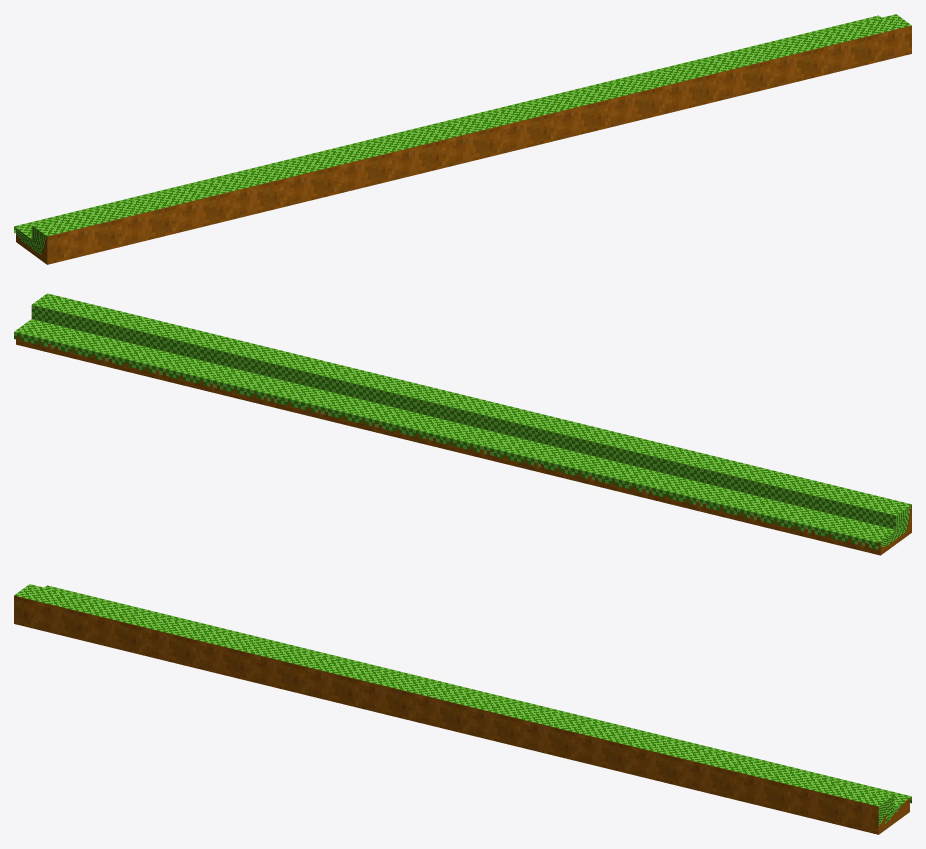
The model's file is stage05_A_neo.fbx.
3 renders of one model, top to bottom at view 1: azimuth 30°, elevation 25°; view 2: azimuth 150°, elevation 25°; view 3: azimuth 330°, elevation 25°, orthographic.
Parts seen in each view (by area): view 1: stage05_A_neo_32_; view 2: stage05_A_neo_32_; view 3: stage05_A_neo_32_.
Part boxes in pixels (left/top/right/bottom): stage05_A_neo_32_: left=14, top=14, right=911, bottom=264; stage05_A_neo_32_: left=14, top=293, right=911, bottom=555; stage05_A_neo_32_: left=14, top=584, right=911, bottom=834.
Bounding box in the file's own units: 2376 × 74.45 × 158.
